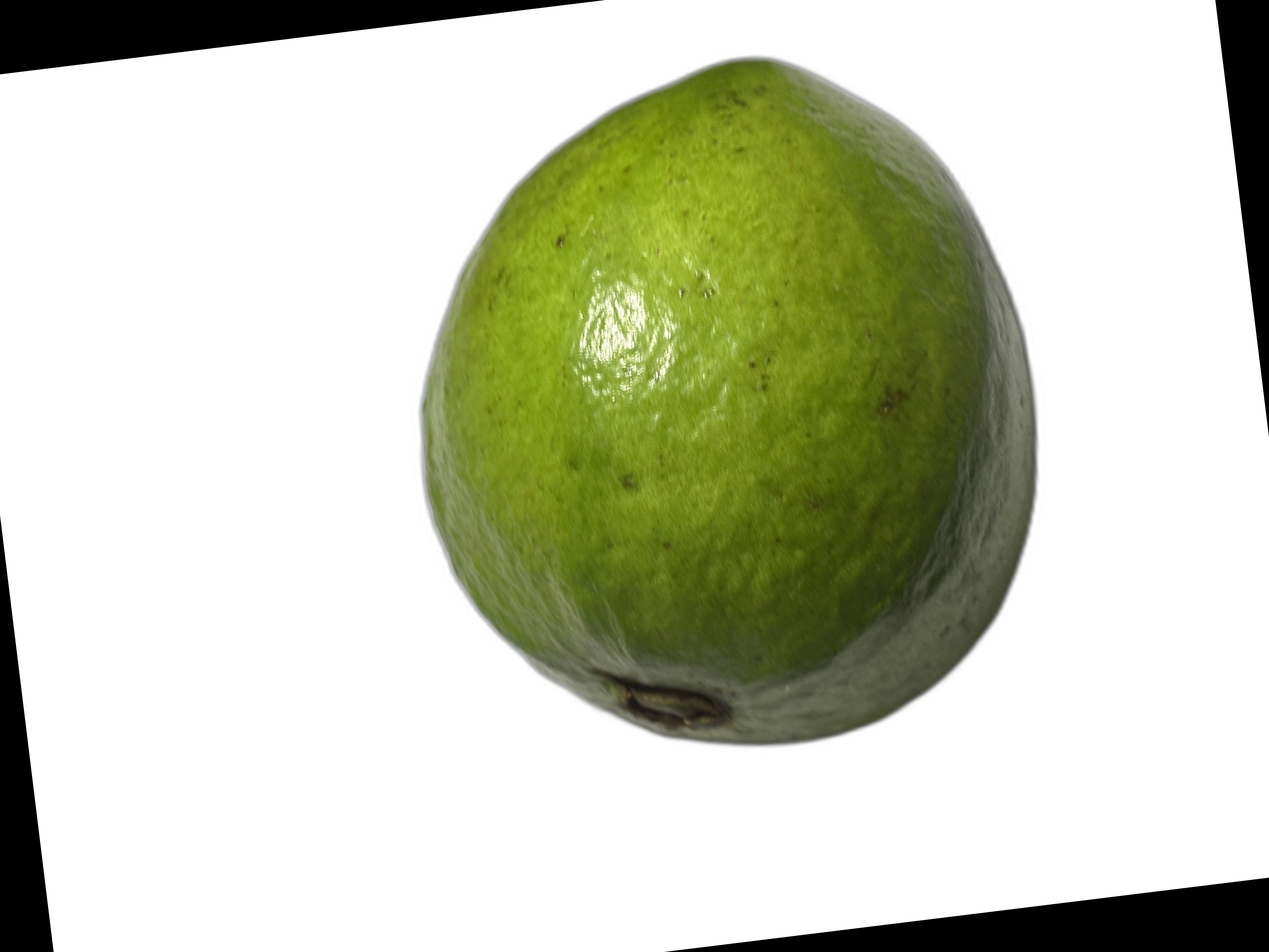guava: (99, 141, 1060, 834)
